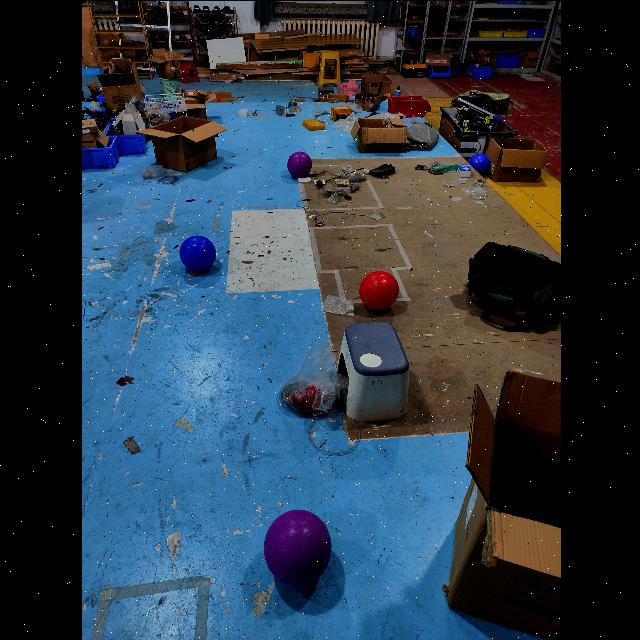B: (178, 234, 215, 272), (467, 152, 489, 175)
P: (260, 507, 330, 587), (285, 150, 311, 178)
R: (358, 268, 398, 310)
